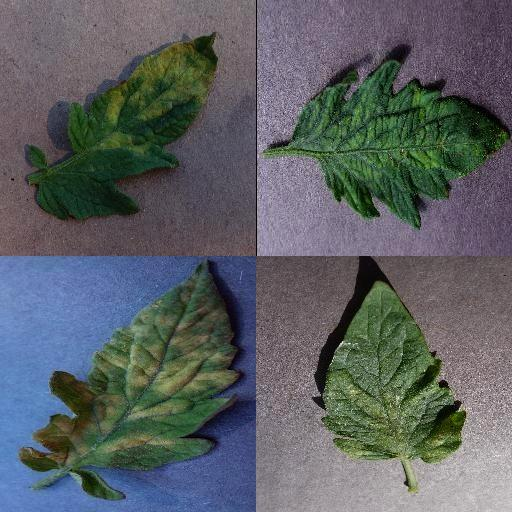Leaf Mold: (19, 256, 244, 470), (37, 30, 220, 220)
Mosaic Virus: (288, 58, 510, 231)
Spider Mites: (321, 279, 467, 465)
